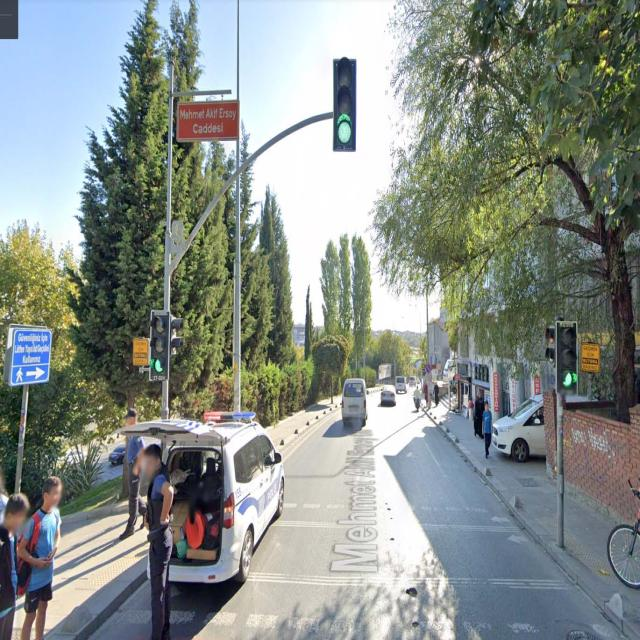yesil: (334, 58, 356, 150), (557, 322, 576, 394), (151, 309, 168, 379)
